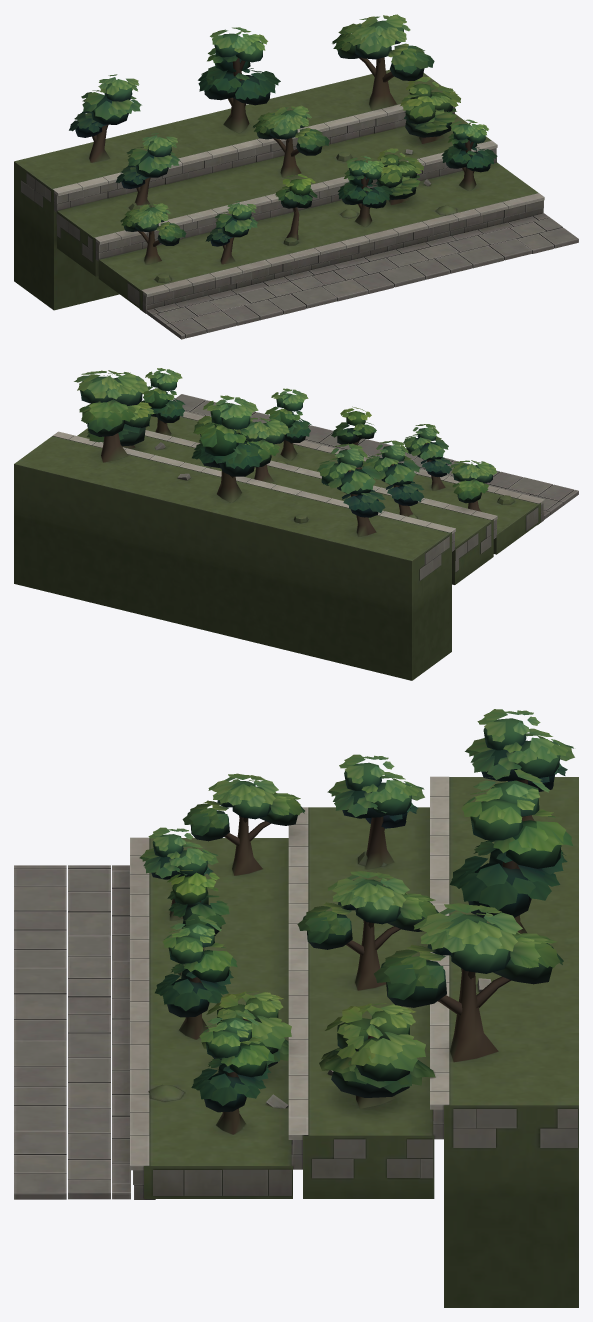
Rendered from skirt_rift.glb.
The picture shows the model from 3 angles, top to bottom: view 1: azimuth 30°, elevation 25°; view 2: azimuth 150°, elevation 25°; view 3: azimuth 270°, elevation 25°; orthographic projection. The views are drawn at different scales.
Visible parts, largest first — view 1: skirt_rift_body, skirt_rift_trees; view 2: skirt_rift_body, skirt_rift_trees; view 3: skirt_rift_body, skirt_rift_trees.
Part boxes in pixels (box(x1,y1,x2,y2)): skirt_rift_body: box(14, 69, 578, 339); skirt_rift_trees: box(69, 14, 497, 264); skirt_rift_body: box(14, 394, 578, 680); skirt_rift_trees: box(74, 368, 496, 536); skirt_rift_body: box(14, 776, 578, 1307); skirt_rift_trees: box(139, 709, 574, 1134).
Bounding box in the file's own units: 22.05 × 11.4 × 16.
Materials: 2 (1 with a texture image).
